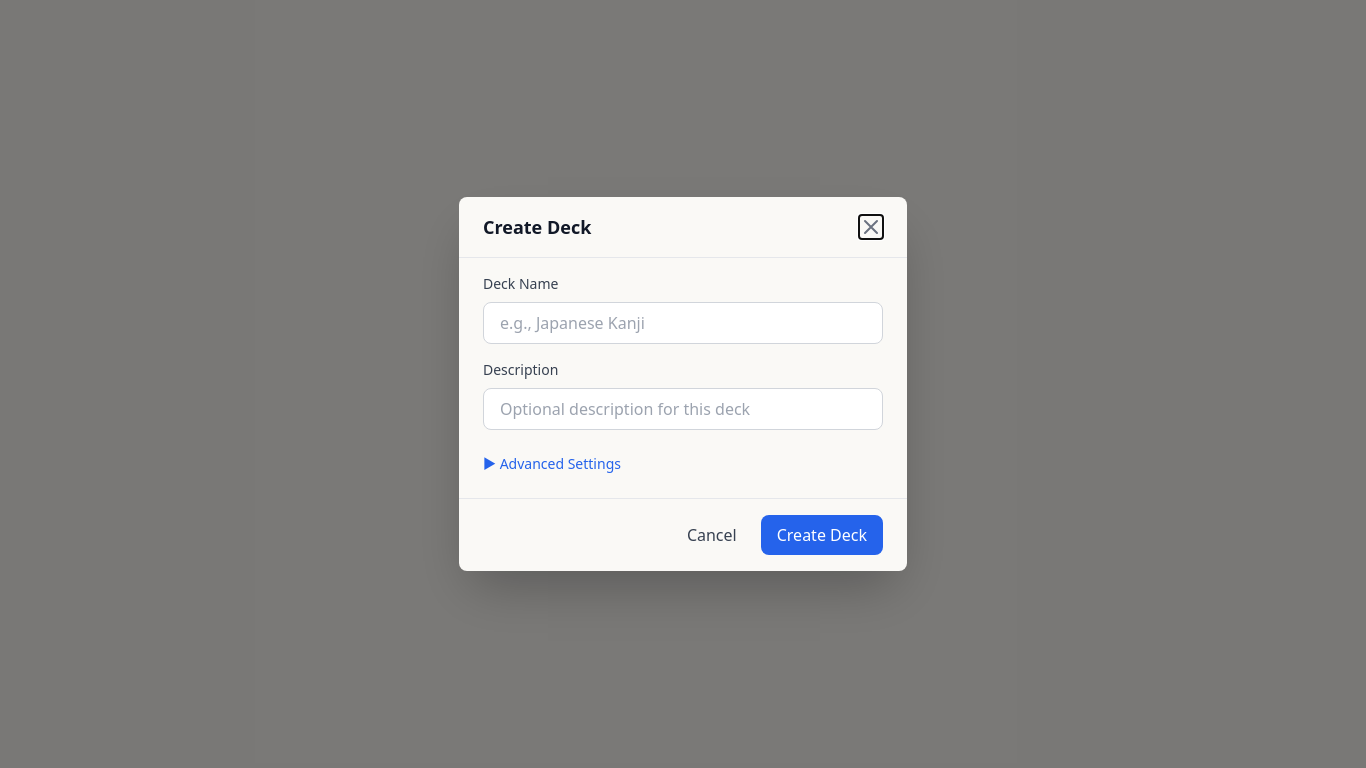
Test: CreateDeckModal › validates required name field
Click the button "Create Deck": (822, 535) [761,515,883,555]
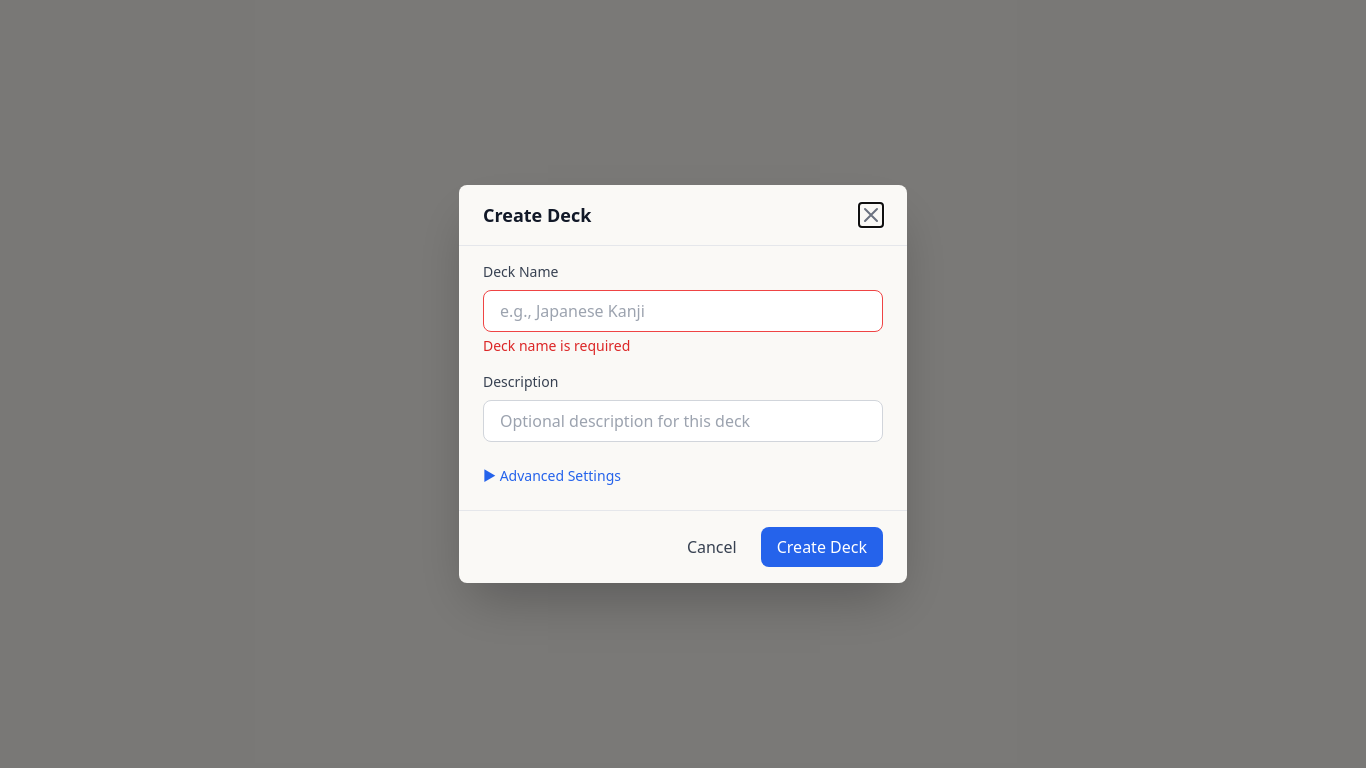
expect the text "Deck name is required" is shown: met, box [483,336,630,355]
